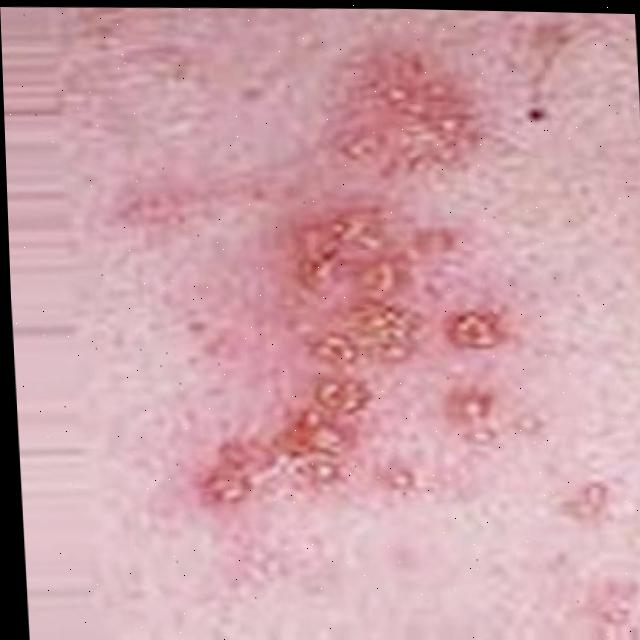Shingles: (204, 237, 508, 520), (362, 58, 473, 181)
